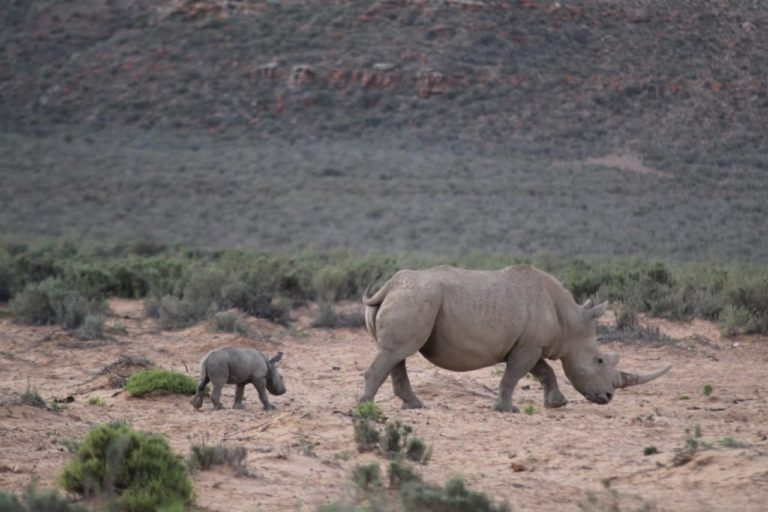rhino: (355, 261, 675, 411), (192, 344, 292, 413)
